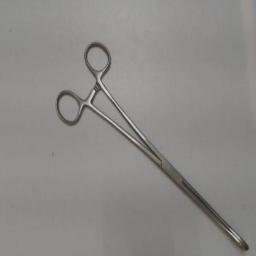Sponge Forceps: (52, 32, 252, 256)
